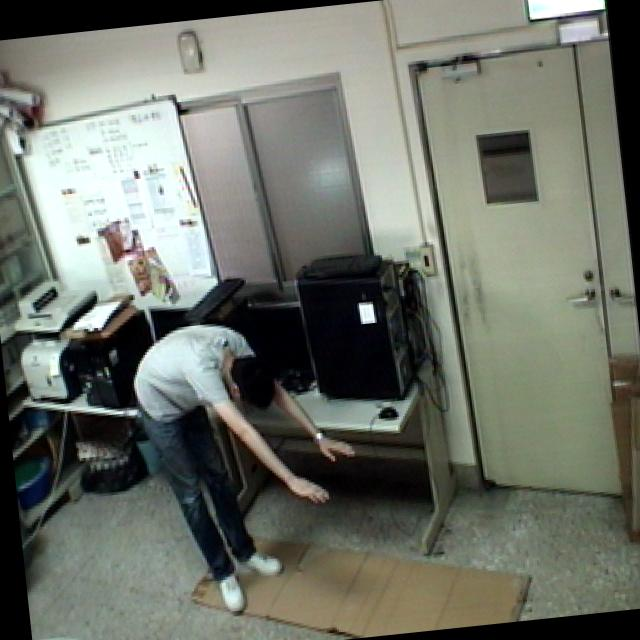bend: (122, 296, 378, 628)
